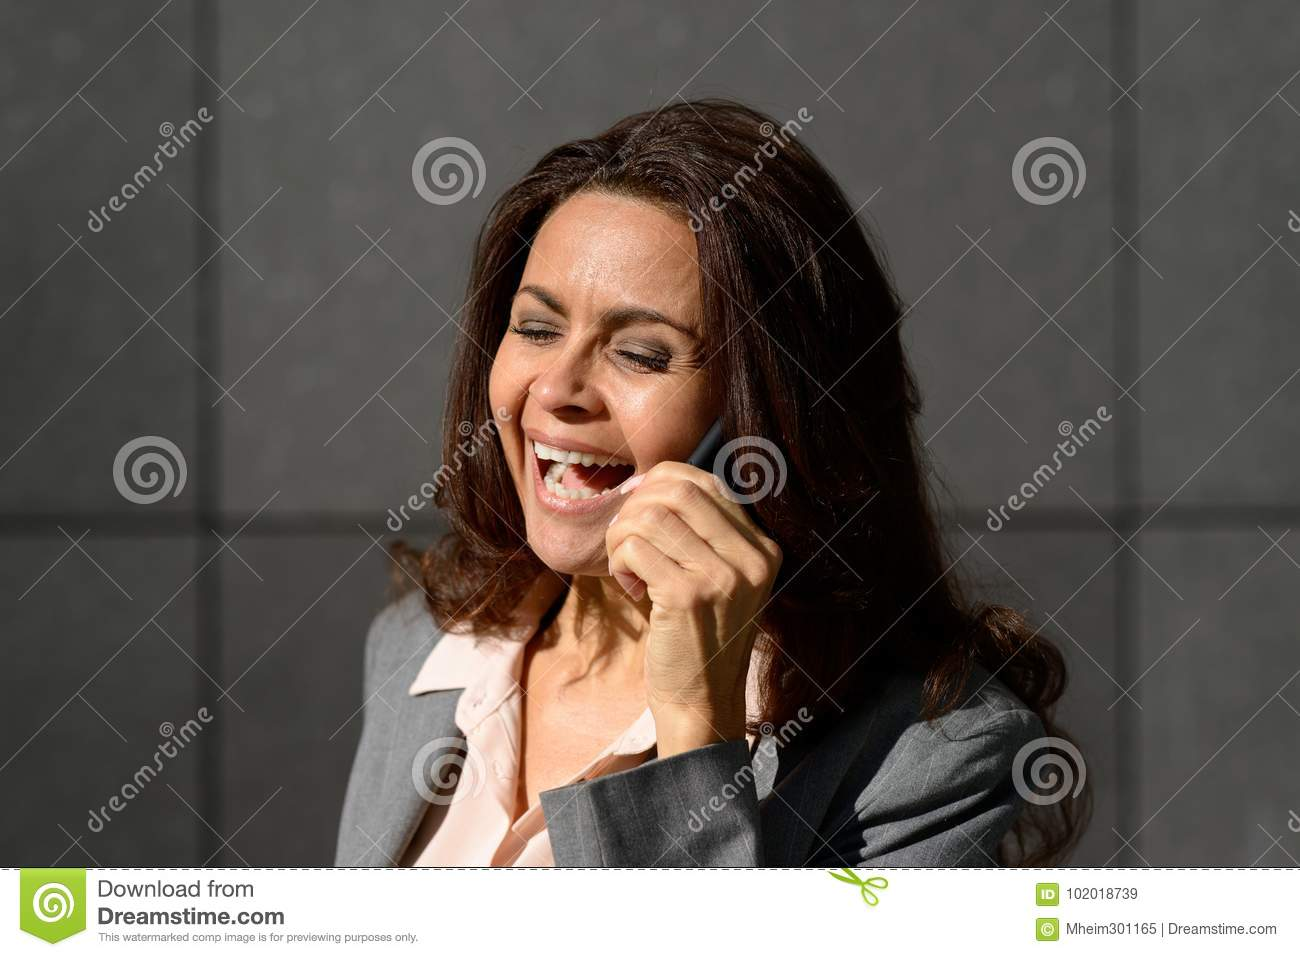phone: (681, 380, 780, 554)
talk: (483, 282, 784, 720)
